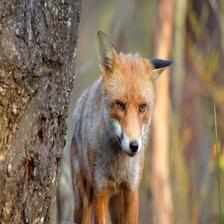fox: (71, 23, 185, 224)
